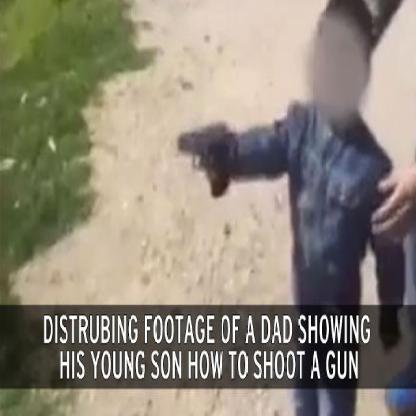pistol: (177, 121, 230, 197)
